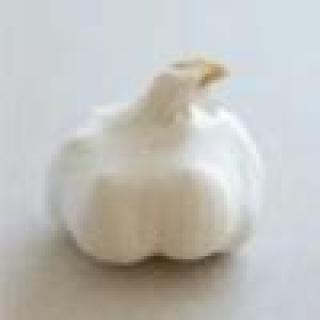Bawang Putih: (53, 53, 264, 280)
